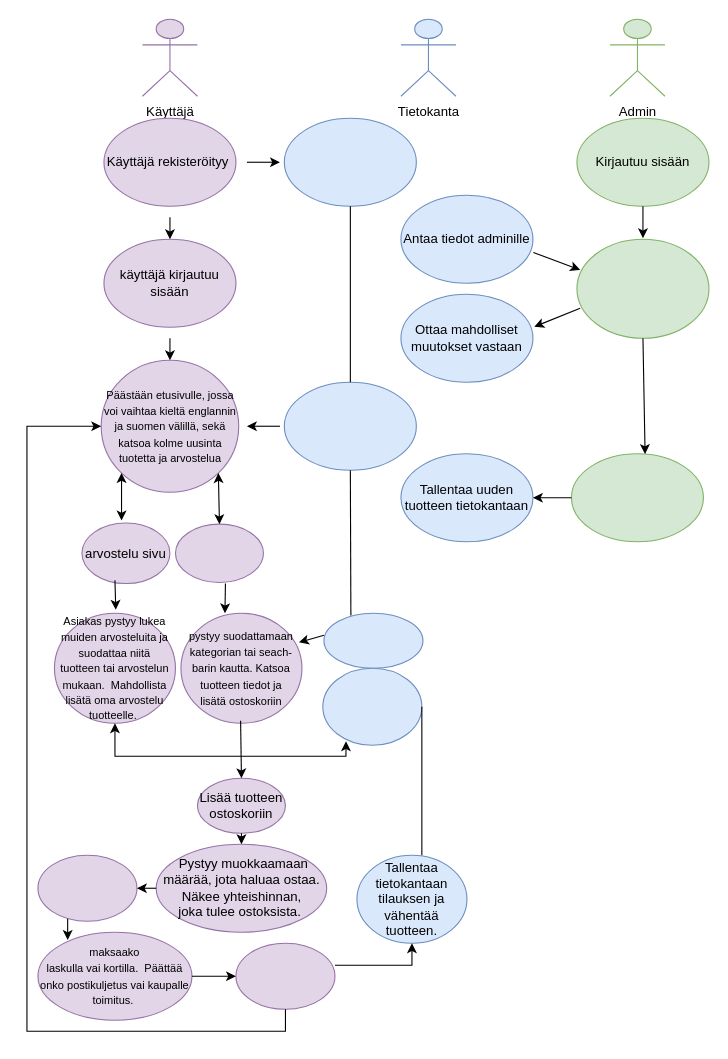
The diagram is 728 pixels wide and 1059 high, and some of its shapes have lost their labels. Here are the shapes that lost their labels. From the top down, the centre of each, then its label:
At (x=349, y=161): "Ottaa vastaan rekisteröitymistiedot".
At (x=642, y=288): "Pääsee admin näkymään, voi tarkastella ja muokata tuote tietoja.".
At (x=349, y=425): "Antaa kolma uusinta tuoteta ja arvostelua".
At (x=636, y=497): "Voi lisätä uuden tuotteen".
At (x=218, y=552): "Tuote sivu".
At (x=373, y=640): "Antaa tuote tiedot sivulle".
At (x=372, y=706): "Antaa arvostelut sivulle ja ottaa vastaan uuden arvostelun".
At (x=87, y=887): "Siirtyy maksamaan".
At (x=285, y=975): "Vahvistaa tilauksen".
